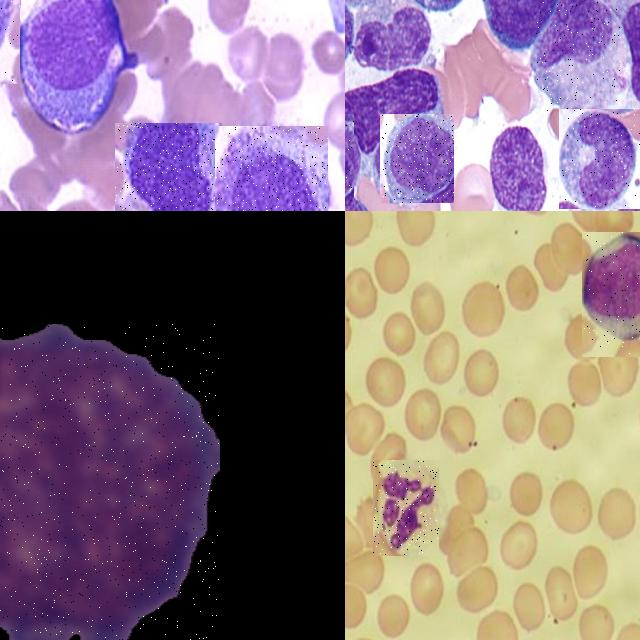ALL Negative Cells: (0, 325, 219, 640), (535, 0, 622, 113), (559, 109, 640, 209), (379, 114, 454, 203)
ALL Positive Cell: (214, 126, 328, 211), (115, 123, 221, 211), (582, 232, 640, 357), (373, 460, 439, 556)
